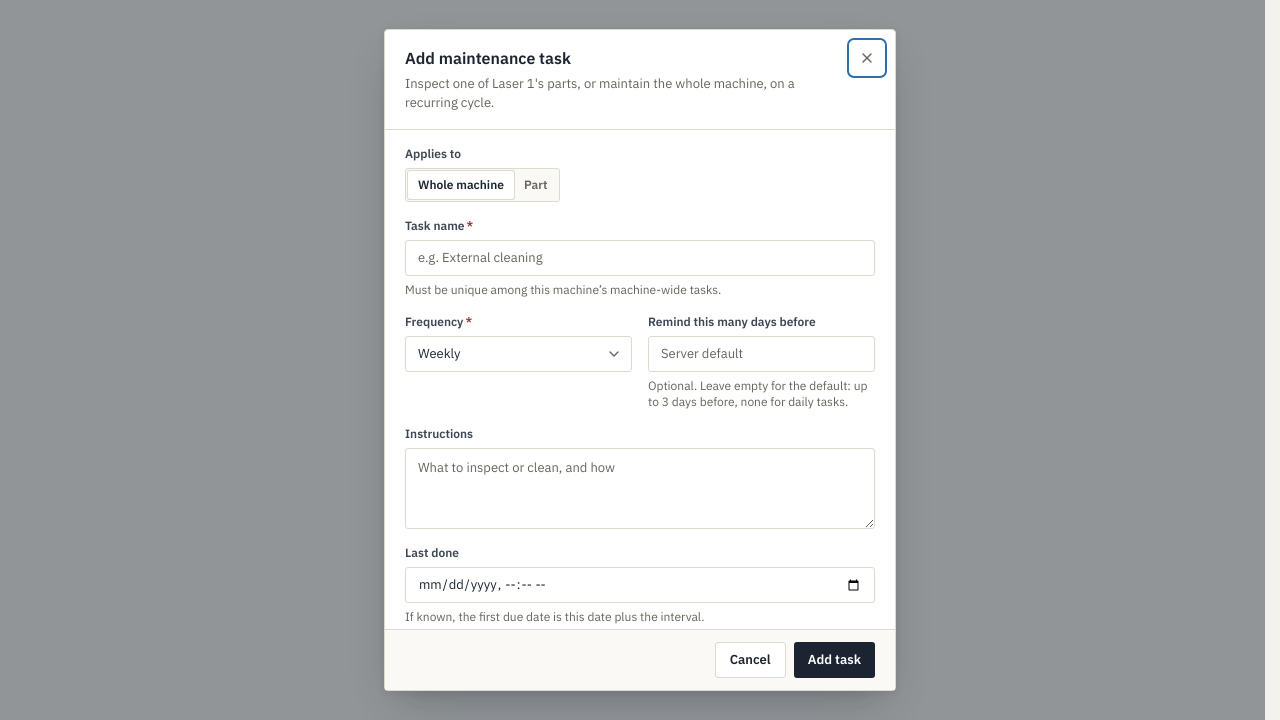
it: Maintenance task form › whole machine › shows a duplicate name on the task name field
Type "External cleaning" into the field labelled "Task name" at (640, 258), box [405,240,875,276]
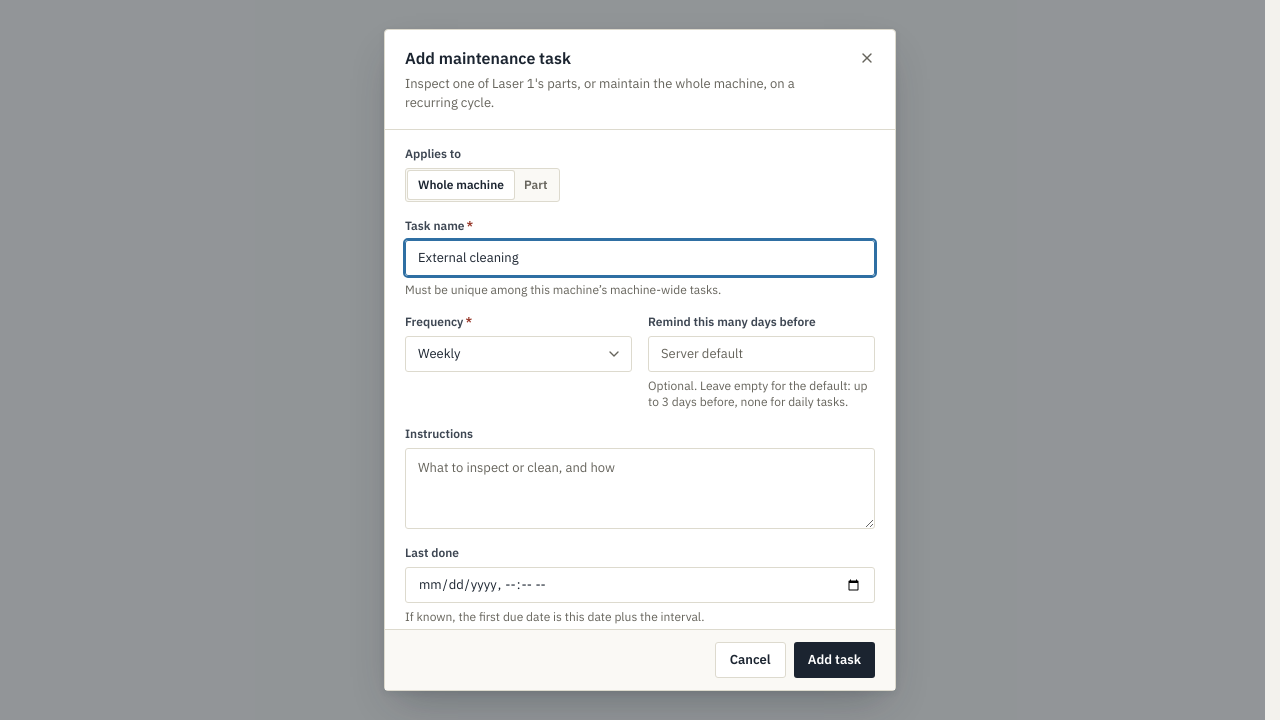
Click the button "Add task" at (834, 660), box [794,642,875,678]
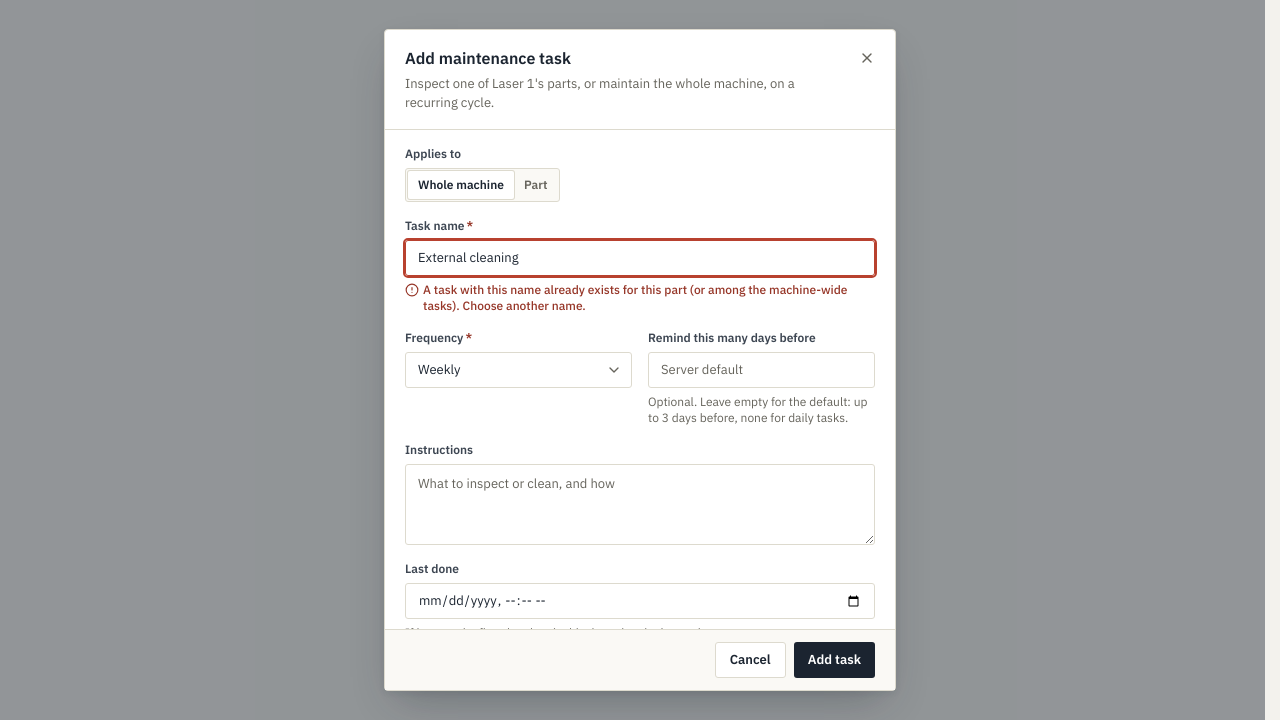
Check: the text "A task with this name already exists" is shown, box [423,282,848,313]
